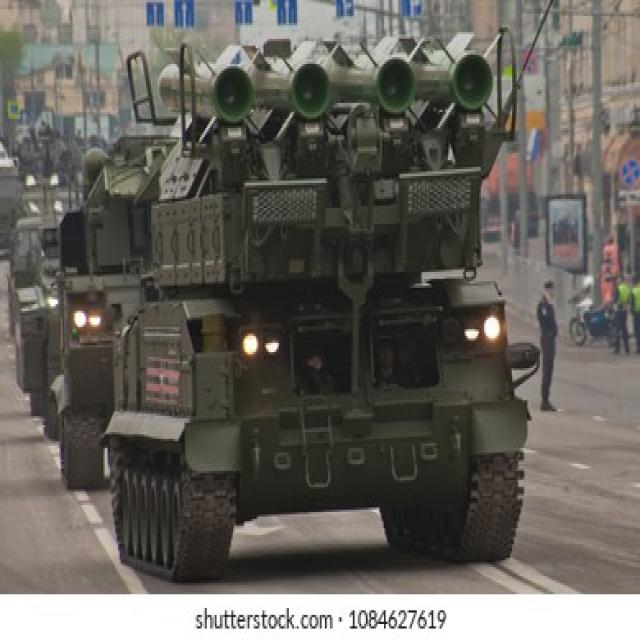MIL_EW_RDR: (137, 66, 521, 564)
